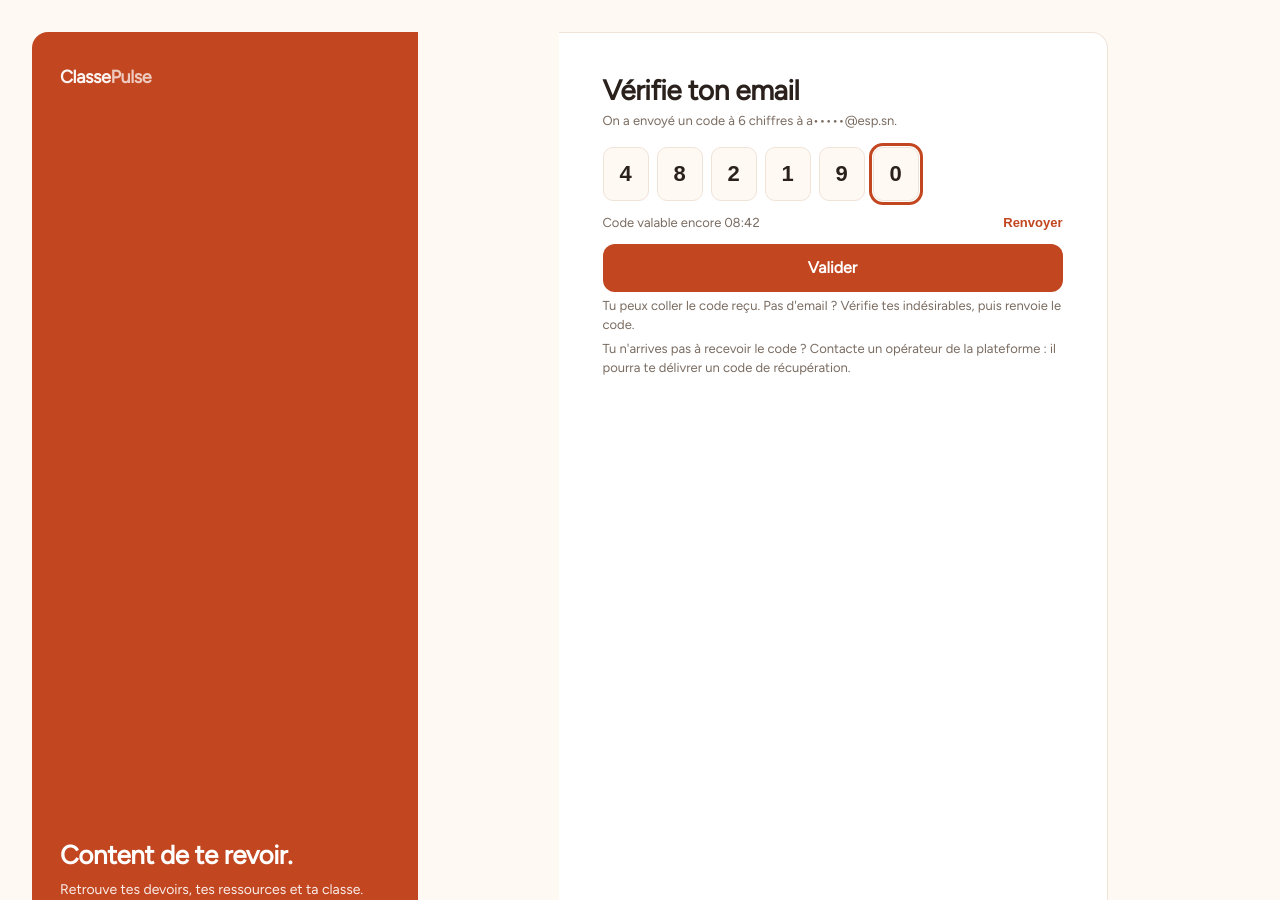
Test: code à 6 chiffres (P2, M8) › code expiré : renvoie vers la connexion
Click the button "Valider": (832, 268) [602,244,1062,292]
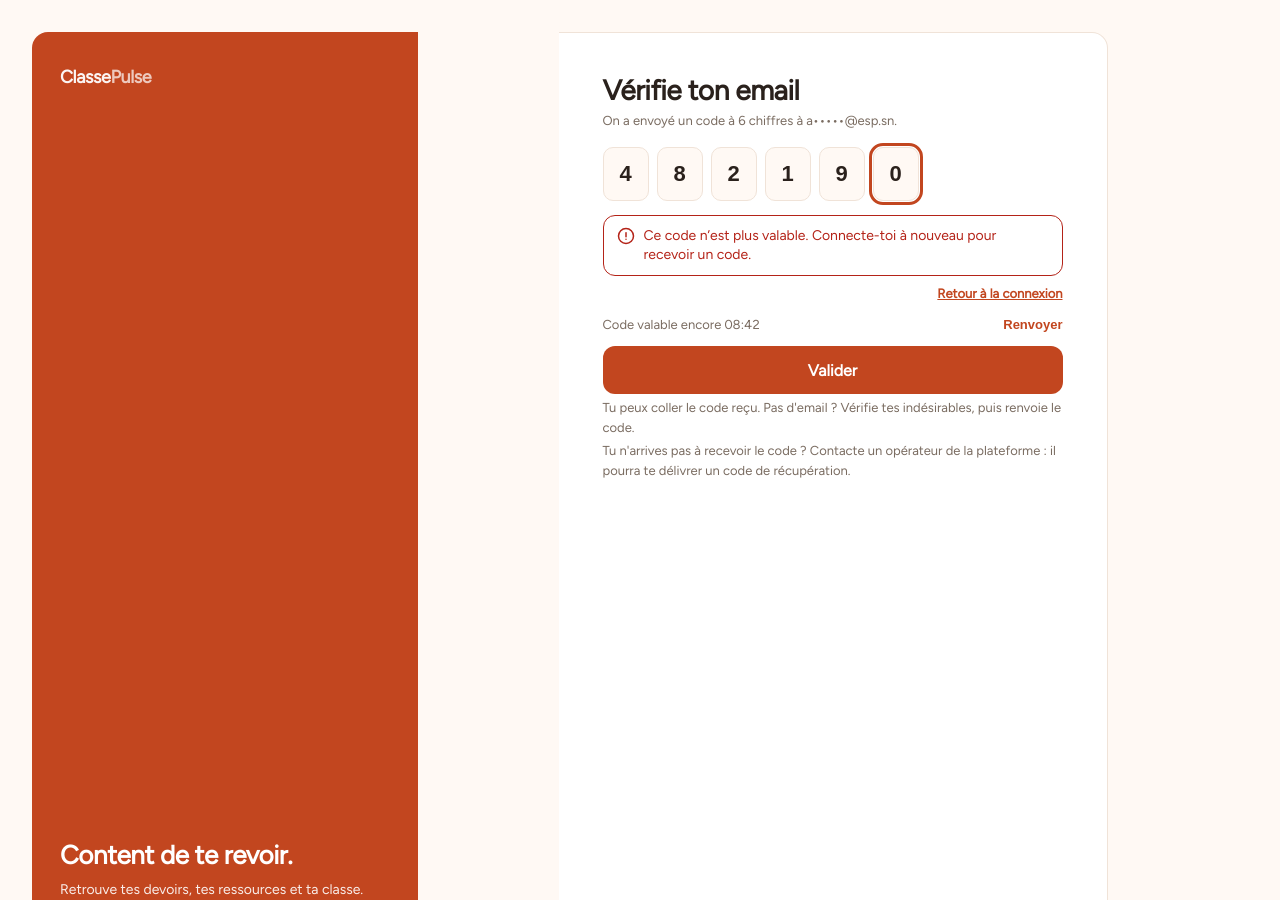
Now the message reads "Ce code n’est plus valable. Connecte-toi à nouveau pour recevoir un code.", box [644,226,996,263]
Click the link "Retour à la connexion": (1000, 293) [937,286,1062,301]
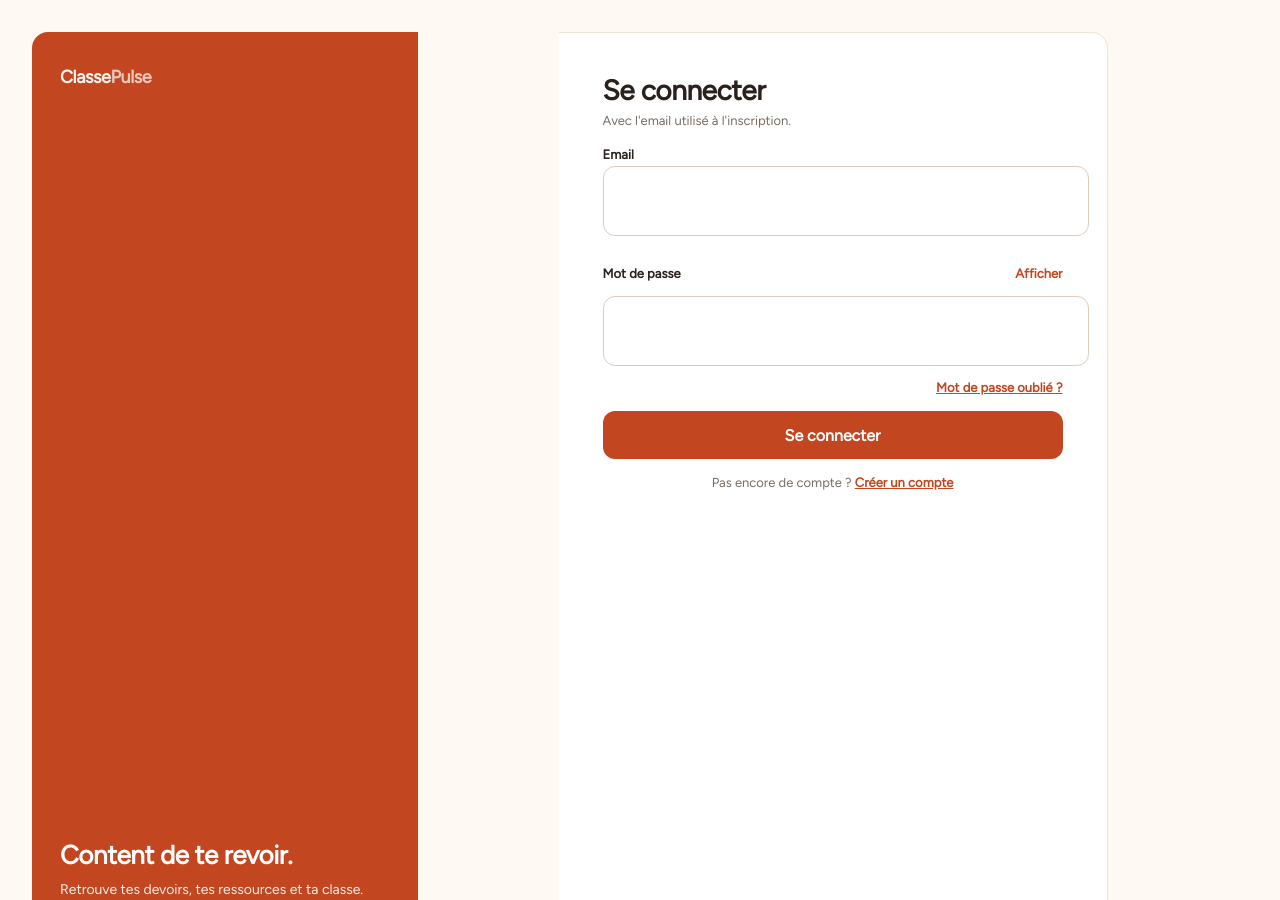
Now the heading "Se connecter" is shown, box [602,73,765,107]
